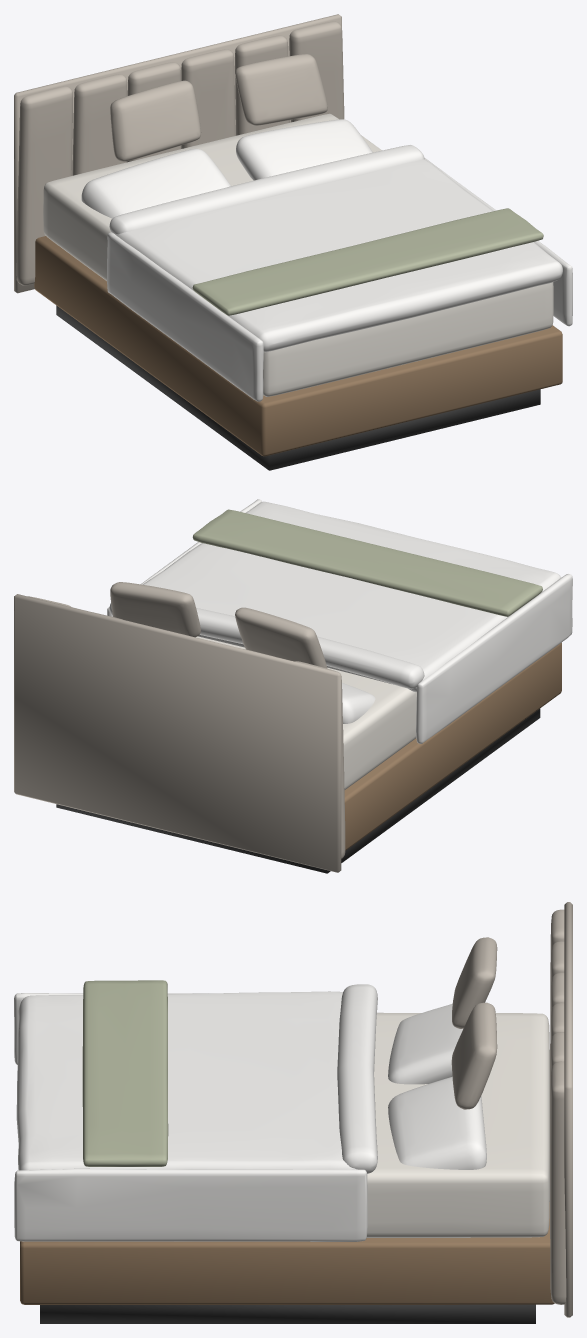
File: cama_casal.glb
3 renders of one model, top to bottom at view 1: azimuth 30°, elevation 25°; view 2: azimuth 150°, elevation 25°; view 3: azimuth 270°, elevation 25°, orthographic. The views are drawn at different scales.
Visible parts, largest first — view 1: travesseiro.001; view 2: travesseiro.001; view 3: travesseiro.001.
Boxes of the visible parts, x1,y1,x2,y2 form: travesseiro.001: (14,14,572,470); travesseiro.001: (14,499,572,873); travesseiro.001: (14,902,572,1323).
Bounding box in the file's own units: 1.54 × 1.01 × 1.96.
